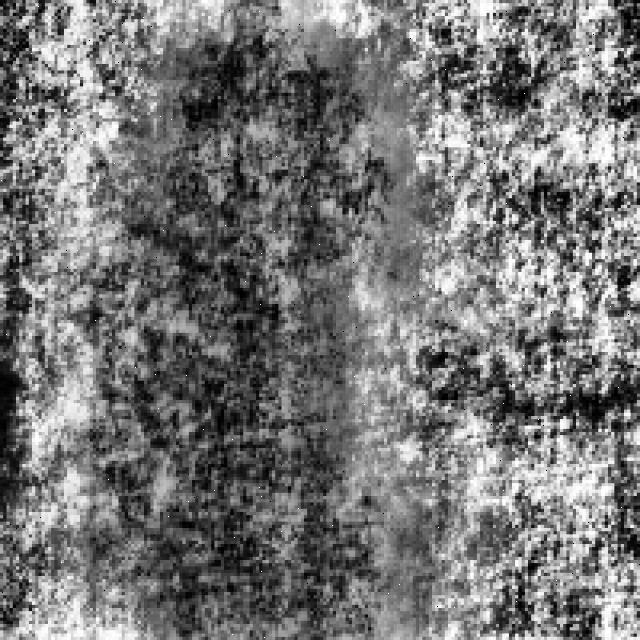Scratches: (100, 35, 390, 630)
